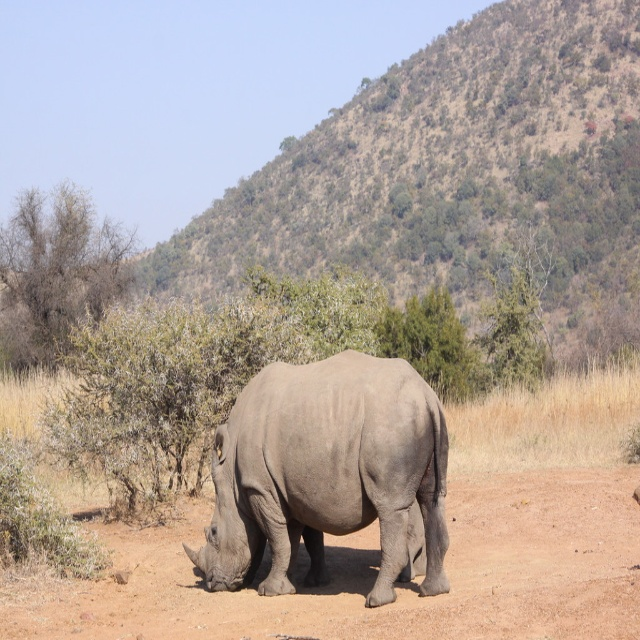Rhinoceros: (178, 342, 452, 605)
